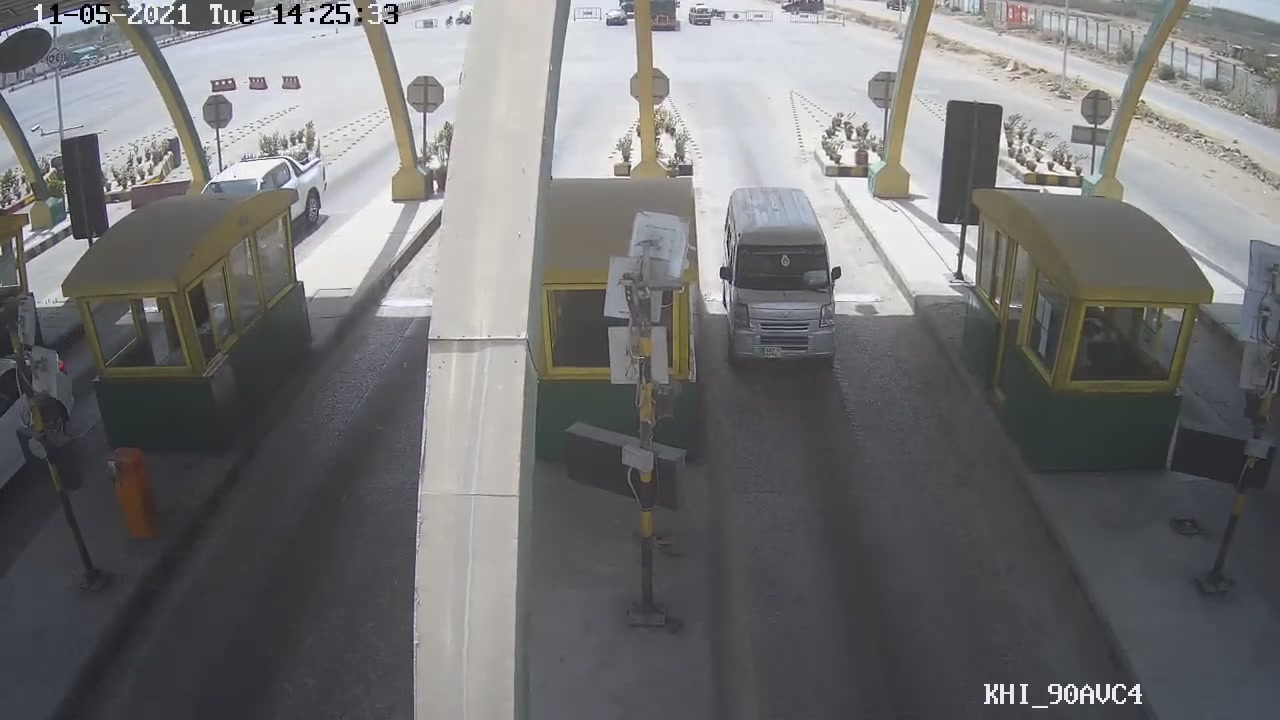F1: (709, 180, 853, 373)
